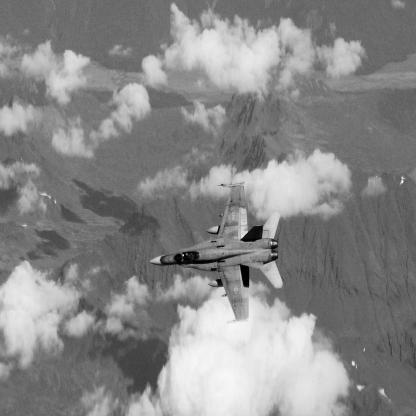F18: (150, 182, 284, 325)
